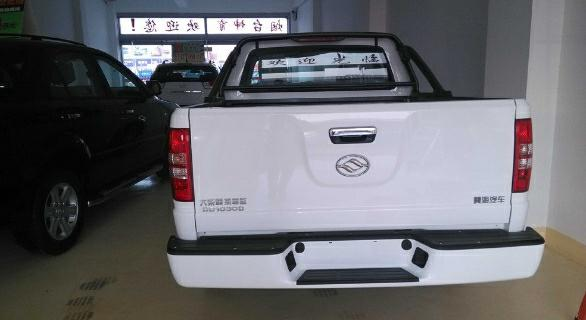黄海-大柴神: (159, 28, 547, 299)
